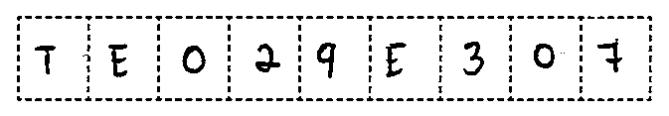0: (176, 39, 211, 81), (527, 37, 562, 75)
2: (245, 38, 287, 80)
3: (457, 34, 490, 79)
7: (591, 35, 629, 83)
9: (310, 37, 341, 83)
E: (379, 36, 414, 83), (103, 38, 137, 85)
T: (30, 37, 65, 83)
